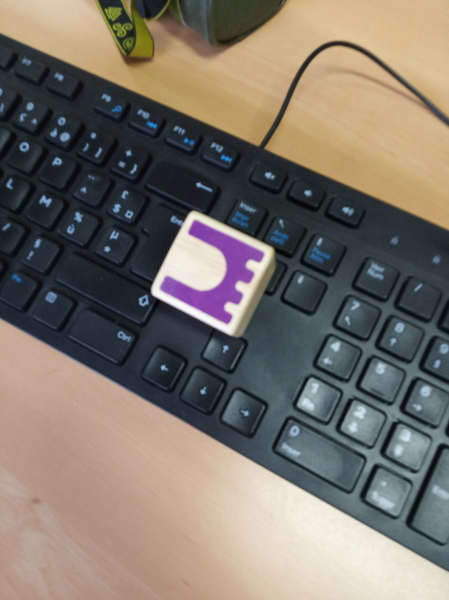violet: (159, 214, 266, 335)
